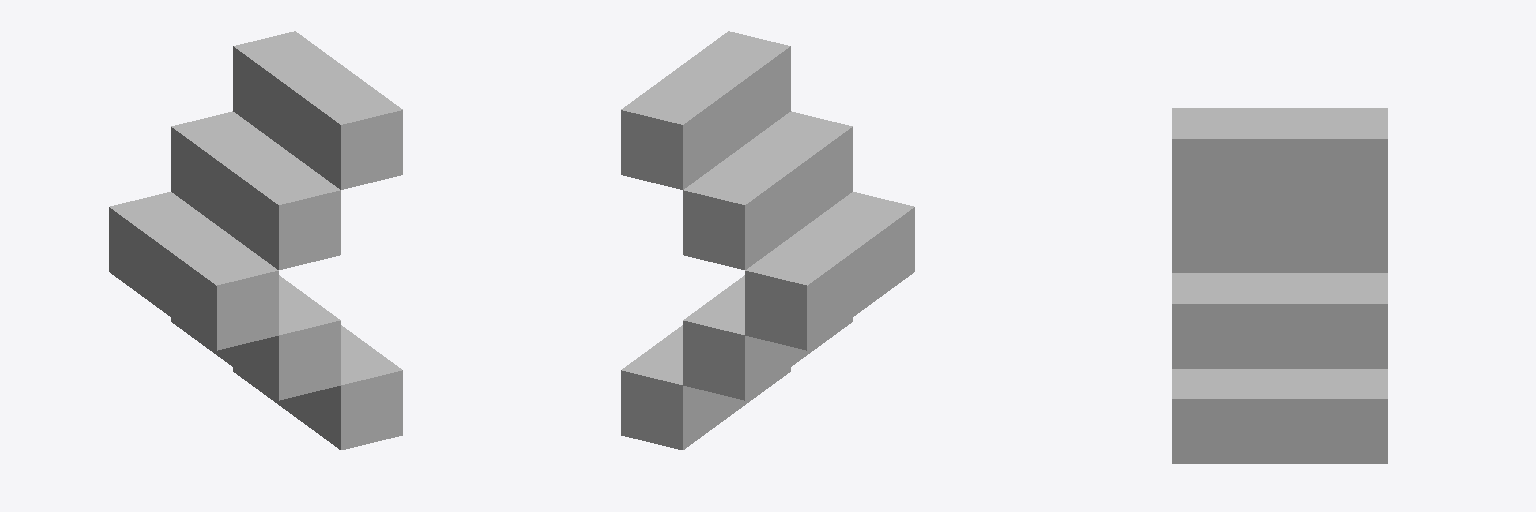
The model's file is moon.obj.
3 views of the same model, side by side, from view 1: azimuth 30°, elevation 25°; view 2: azimuth 150°, elevation 25°; view 3: azimuth 270°, elevation 25° (orthographic).
Visible parts, largest first — view 1: object 1; view 2: object 1; view 3: object 1.
Boxes of the visible parts, box(x1,y1,x2,y2) form: object 1: box(109, 31, 402, 449); object 1: box(621, 31, 914, 449); object 1: box(1172, 108, 1387, 463).
Bounding box in the file's own units: 0.3 × 0.5 × 0.3.